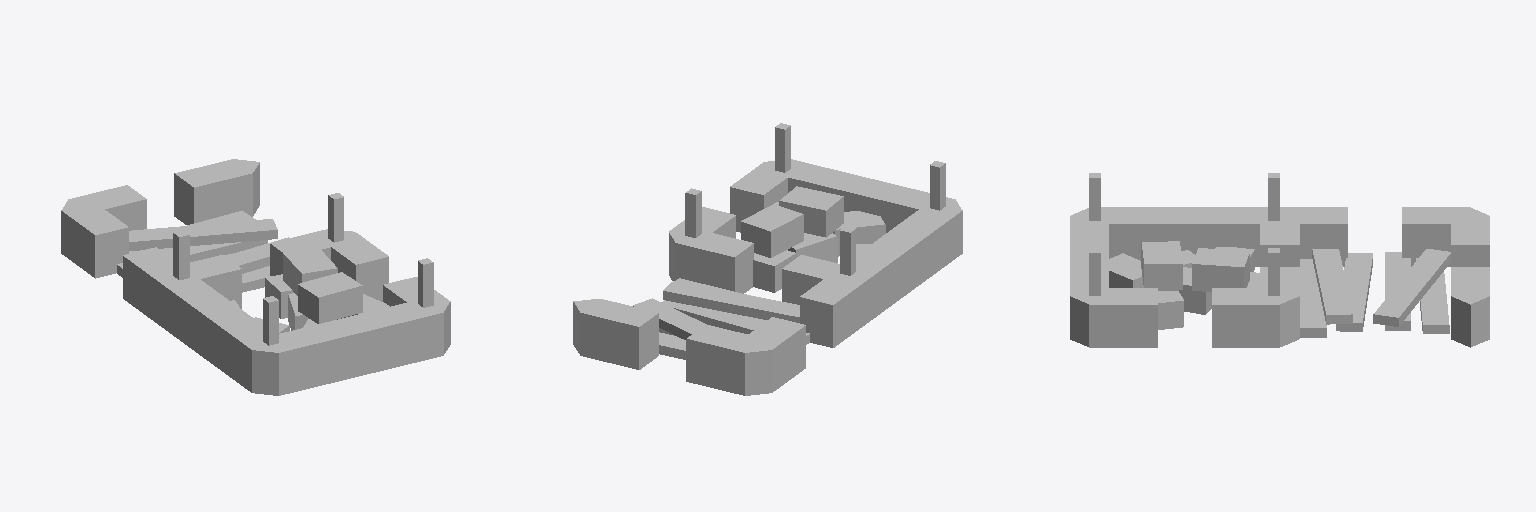
File: Casa 12 Rota.obj
3 views of the same model, side by side, from view 1: azimuth 30°, elevation 25°; view 2: azimuth 150°, elevation 25°; view 3: azimuth 270°, elevation 25° (orthographic).
Size of the model in its own units: 1.21 by 0.5 by 2.21.